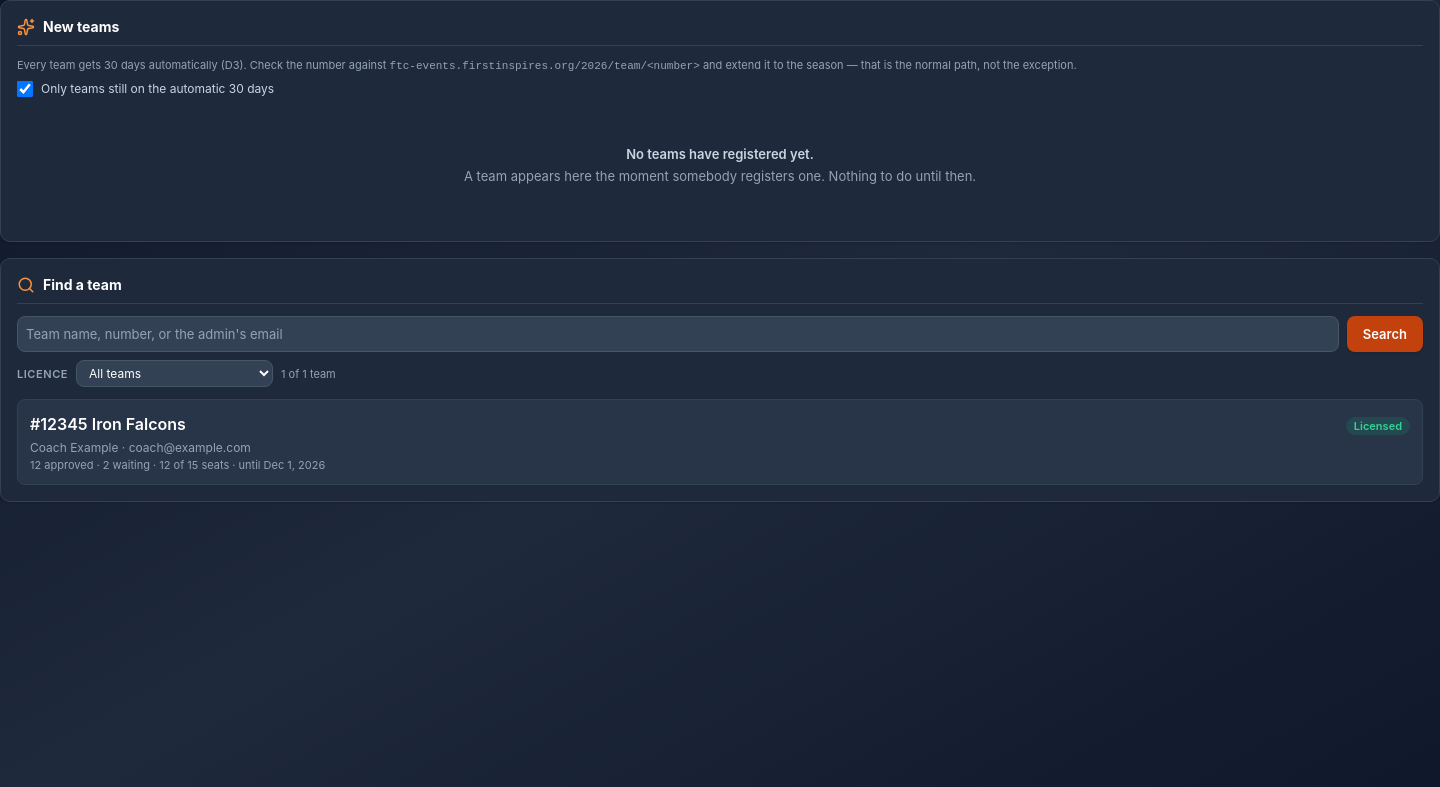
allowing an account a second team › grants against the ACCOUNT behind the membership
Click the text "#12345 Iron Falcons".
click(108, 424)  # box [30,412,186,436]
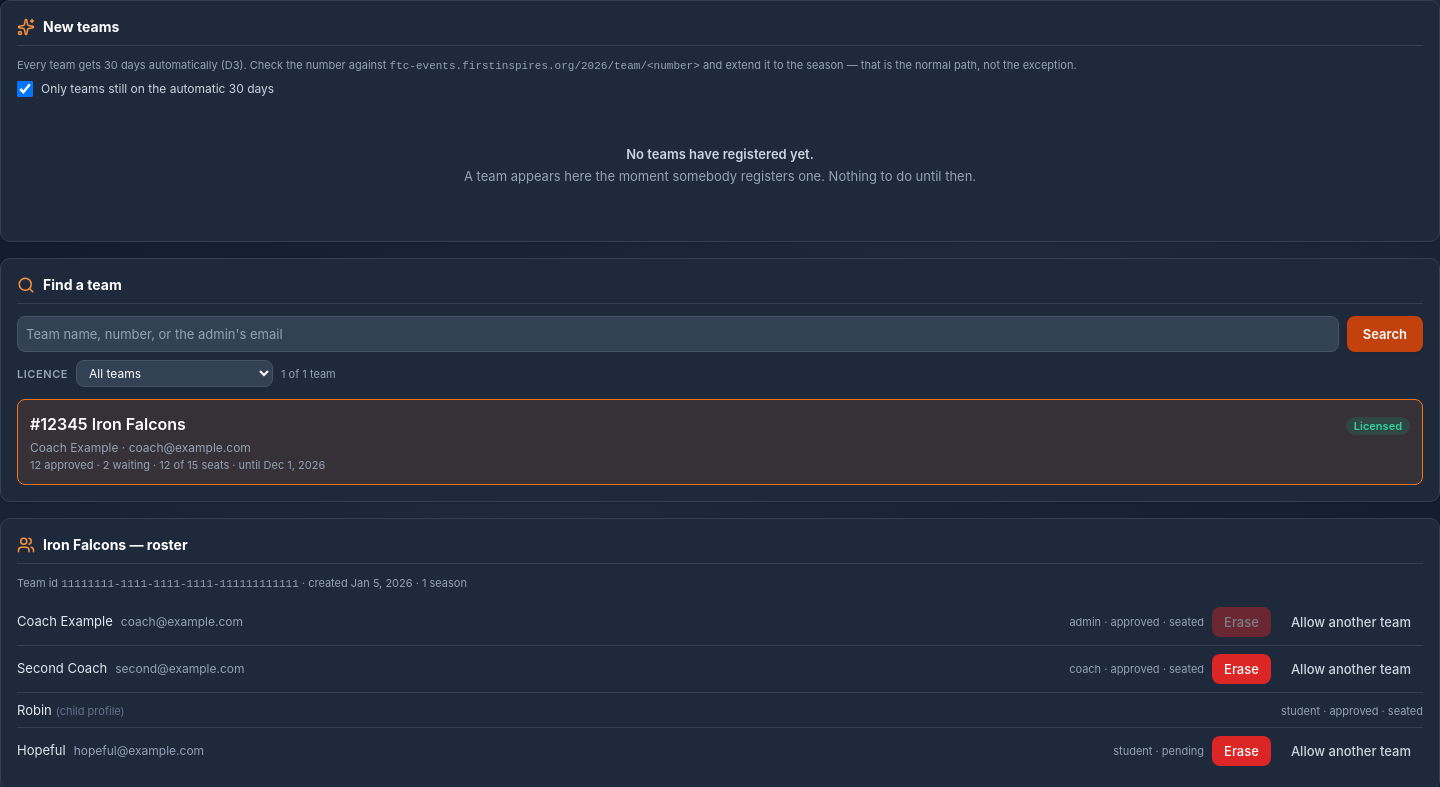
Expected: the heading "Iron Falcons — roster" is shown, [17,535,188,555]
Click the button with test id "grant-extra-team-m-admin".
click(1351, 622)  # box [1279,607,1423,637]
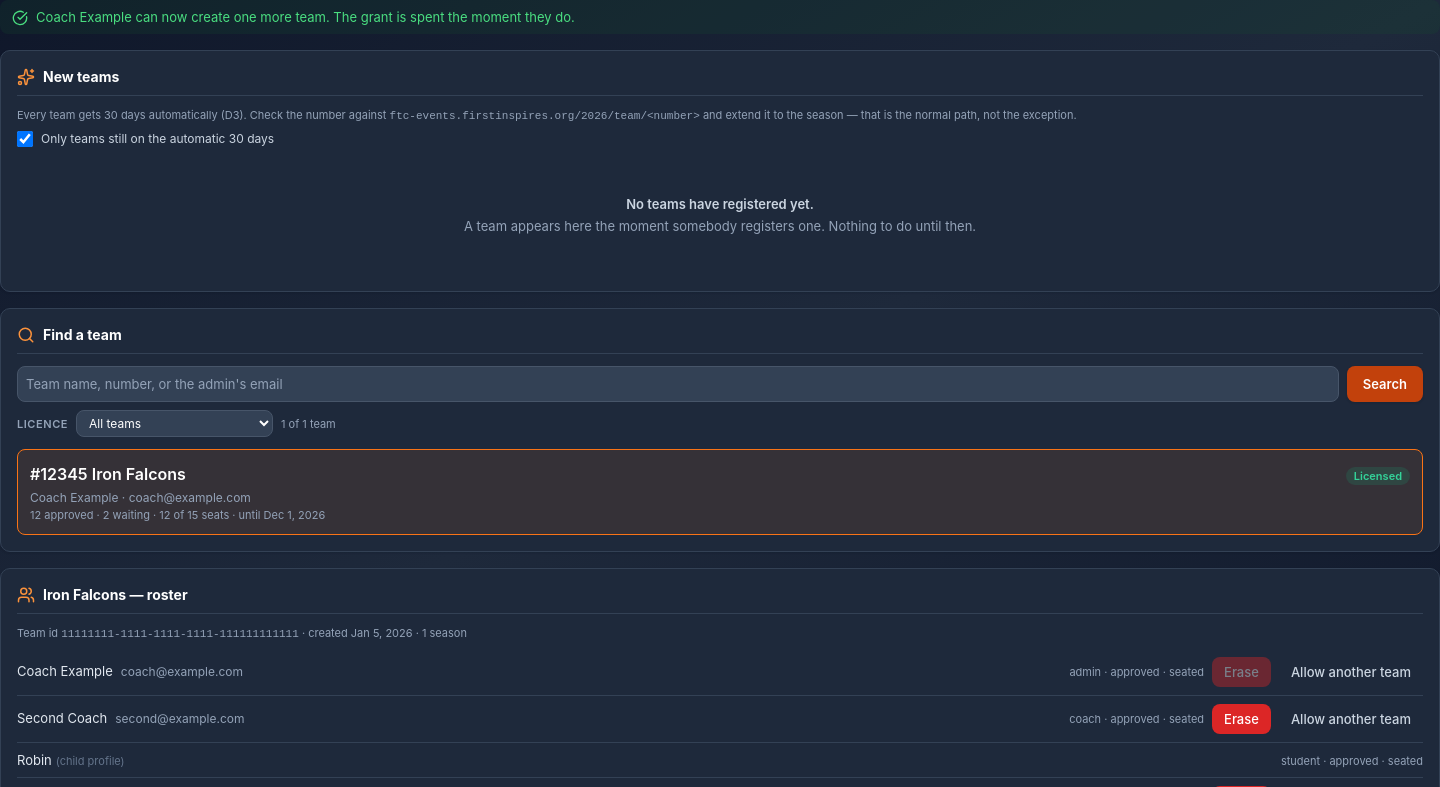
Expected: the text "can now create one more team" is shown, [36,9,575,25]
